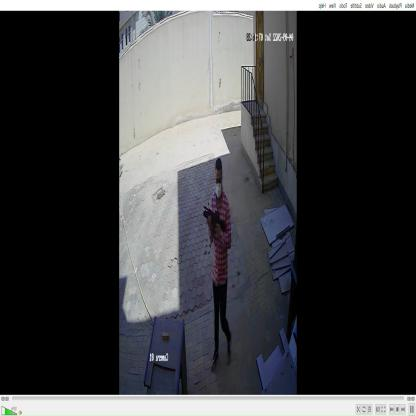handgun: (197, 199, 228, 242)
